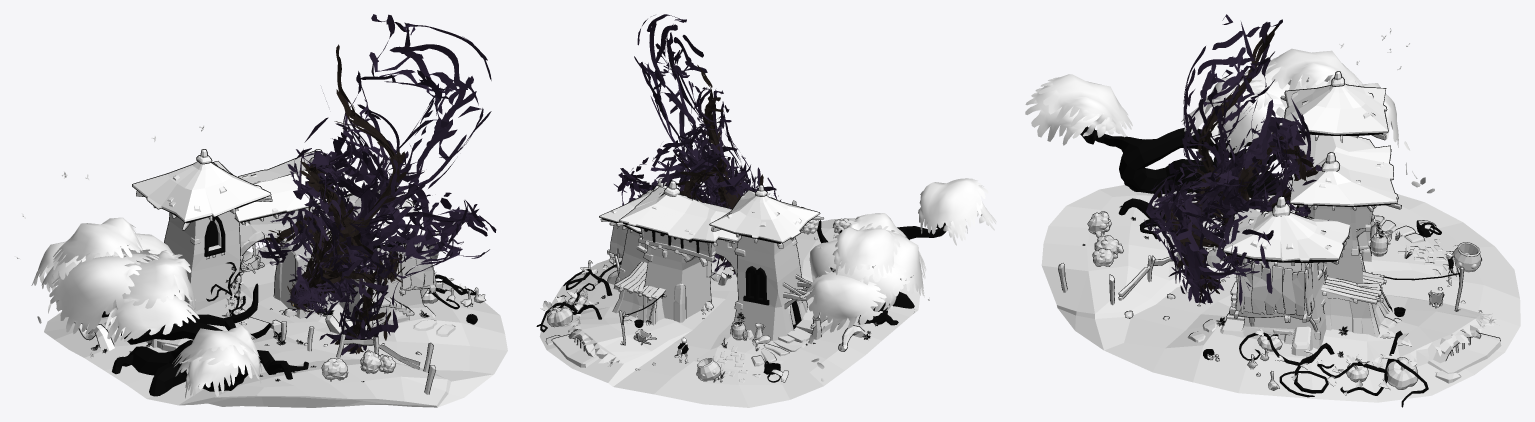
The model's file is ftm_sketchfab.fbx.
The picture shows the model from 3 angles, left to right: view 1: azimuth 30°, elevation 25°; view 2: azimuth 150°, elevation 25°; view 3: azimuth 270°, elevation 25°; orthographic projection. The views are drawn at different scales.
Visible parts, largest first — view 1: monster 001, ground, tree leaves, piedras, outline, roof, tree leaves inv, monster, madera, dec; view 2: ground, piedras, tree leaves inv, monster 001, tree leaves, roof, outline, madera, dec, monster; view 3: ground, monster 001, roof, outline, tree leaves, madera, piedras, dec, tree leaves inv, monster.
Part boxes in pixels (x1,y1,x2,y2): monster 001: (254, 14, 496, 355); ground: (44, 243, 507, 407); tree leaves: (31, 218, 261, 398); piedras: (145, 202, 455, 355); outline: (74, 149, 485, 396); roof: (75, 149, 439, 396); tree leaves inv: (36, 217, 261, 395); monster: (265, 44, 411, 354); madera: (136, 191, 442, 394); dec: (14, 125, 485, 382); ground: (539, 218, 919, 407); piedras: (546, 228, 832, 382); tree leaves inv: (801, 178, 996, 380); monster 001: (614, 14, 781, 275); tree leaves: (802, 178, 996, 381); roof: (599, 179, 866, 351); outline: (536, 178, 946, 382); madera: (601, 200, 827, 382); dec: (540, 178, 929, 382); monster: (676, 65, 769, 274); ground: (1041, 175, 1520, 402); monster 001: (1144, 14, 1328, 305); roof: (1223, 72, 1397, 261); outline: (1058, 71, 1500, 407); tree leaves: (1025, 49, 1434, 193); madera: (1058, 97, 1463, 337); piedras: (1125, 134, 1501, 383); dec: (1083, 28, 1496, 395); tree leaves inv: (1027, 49, 1434, 192); monster: (1157, 25, 1319, 303).
Size of what is drawn, in the model's own units: 1920 by 1482 by 1811.
